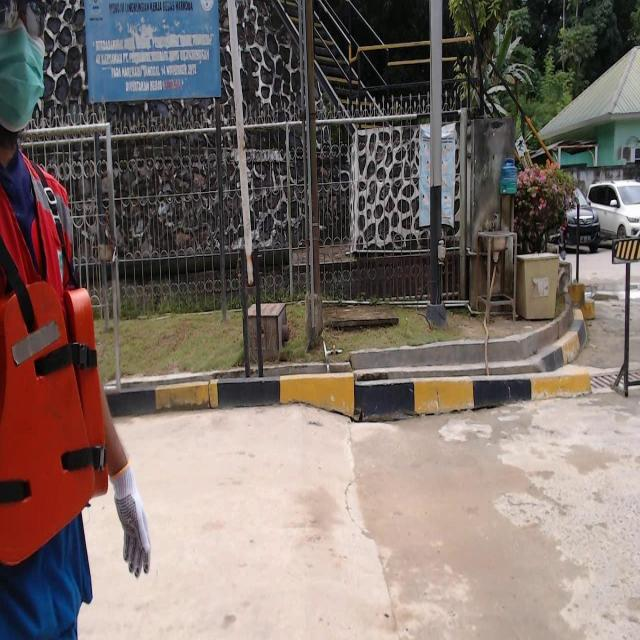Vest: (0, 284, 110, 562)
